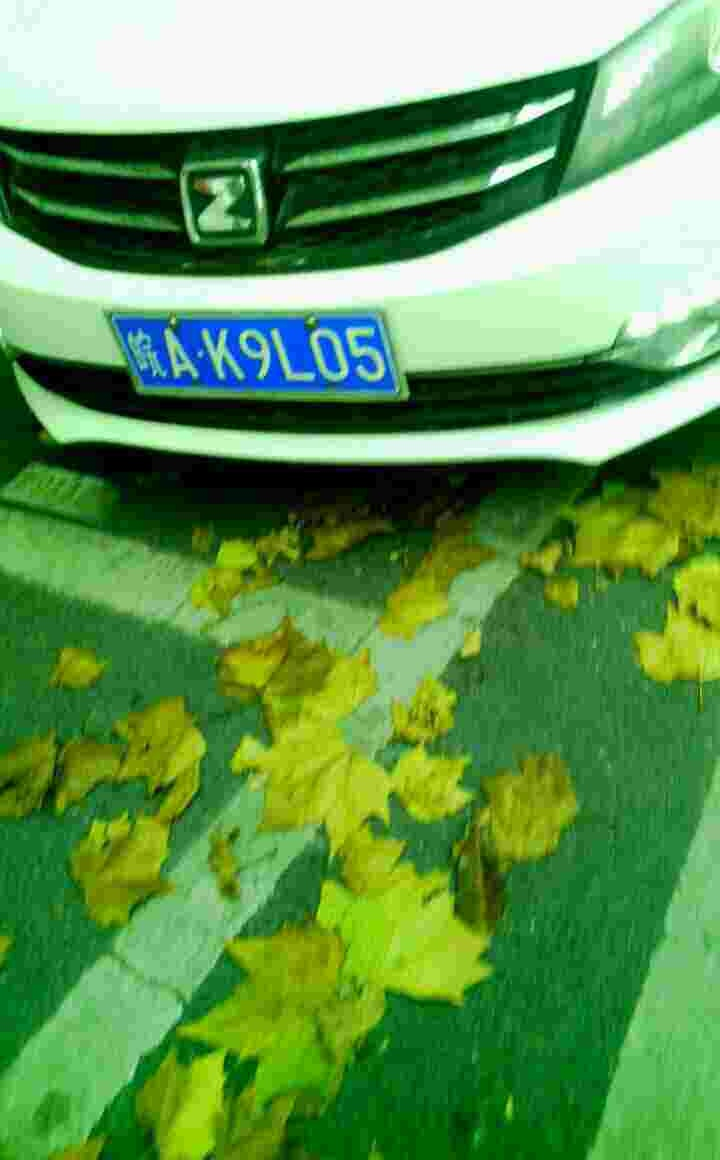license_plate: (110, 314, 395, 396)
